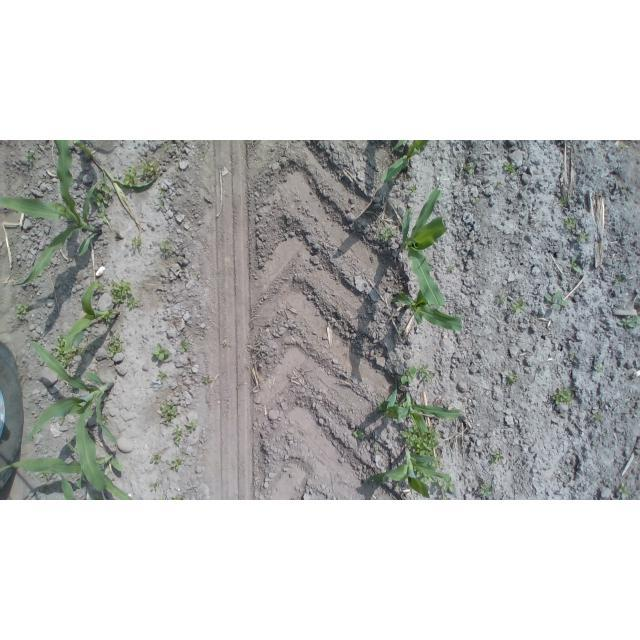Maize: (1, 141, 102, 286), (26, 341, 115, 492), (1, 437, 136, 500), (400, 187, 449, 309), (362, 447, 450, 499), (381, 386, 461, 442), (64, 281, 111, 351), (391, 288, 463, 332), (380, 140, 429, 184), (48, 465, 106, 500)
Weeds: (402, 425, 441, 456), (89, 178, 115, 223), (54, 334, 76, 369), (401, 364, 433, 384), (110, 281, 133, 303), (544, 291, 568, 310), (121, 166, 140, 187), (160, 402, 178, 424), (552, 387, 574, 405), (152, 343, 171, 361), (140, 160, 161, 176), (617, 317, 639, 332), (434, 476, 454, 492), (109, 333, 122, 357), (376, 227, 396, 242), (416, 456, 441, 468), (16, 304, 31, 320), (415, 470, 435, 482), (511, 298, 525, 314), (504, 161, 517, 176), (619, 483, 631, 499), (173, 425, 183, 444), (490, 452, 504, 465), (568, 257, 580, 272), (377, 398, 387, 415), (105, 309, 116, 324), (160, 241, 172, 254), (480, 484, 492, 497), (562, 218, 576, 229), (575, 232, 589, 243), (172, 458, 183, 471), (495, 293, 508, 304), (131, 236, 142, 248), (185, 420, 197, 431), (353, 429, 365, 440), (126, 297, 138, 307), (593, 412, 605, 422), (507, 373, 517, 385), (461, 166, 474, 175), (25, 152, 36, 162), (156, 371, 166, 382), (150, 455, 162, 464), (96, 280, 105, 292), (181, 341, 190, 353), (39, 472, 50, 481), (201, 377, 213, 384), (620, 140, 630, 148), (157, 199, 165, 209), (78, 345, 85, 356), (595, 364, 604, 372), (558, 197, 565, 207), (172, 496, 185, 501), (150, 482, 158, 490), (410, 185, 417, 193), (40, 486, 49, 492), (101, 416, 107, 425), (158, 188, 166, 194), (172, 140, 180, 146), (153, 496, 165, 500), (396, 483, 403, 489), (443, 495, 451, 500), (615, 277, 621, 283), (449, 266, 456, 271), (409, 207, 413, 215), (93, 497, 103, 500), (60, 416, 65, 422), (474, 195, 479, 201), (374, 450, 379, 455), (566, 471, 571, 476), (570, 354, 574, 360), (496, 183, 500, 187)
